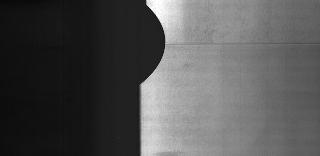welding line: (162, 41, 320, 51)
